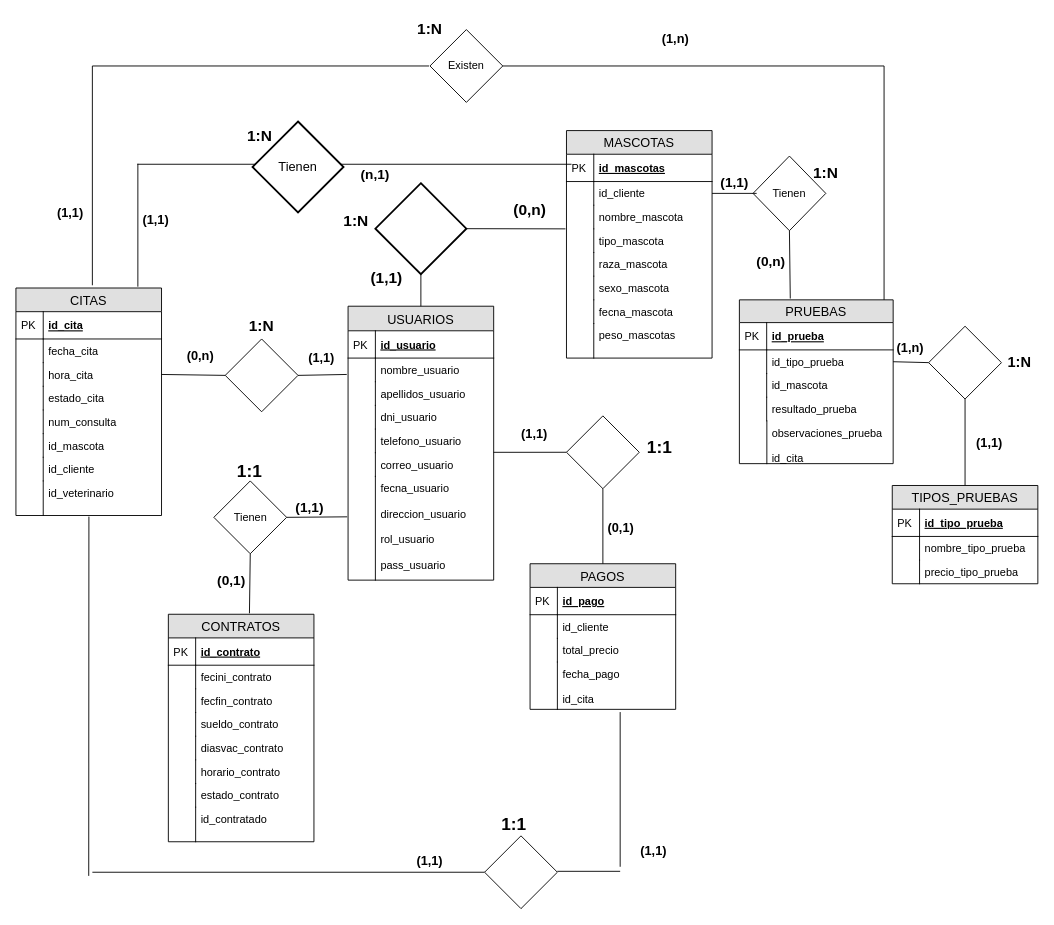
Some shapes in this 1054 by 925 pixel diagram are drawn without their labels. The shapes that lost their labels are listed below. From the top down, each one's centre as x and y in pixels, then its label:
(420,228): Poseen
(261,375): Piden
(964,362): Hay
(602,452): Realizan
(520,872): Contienen
